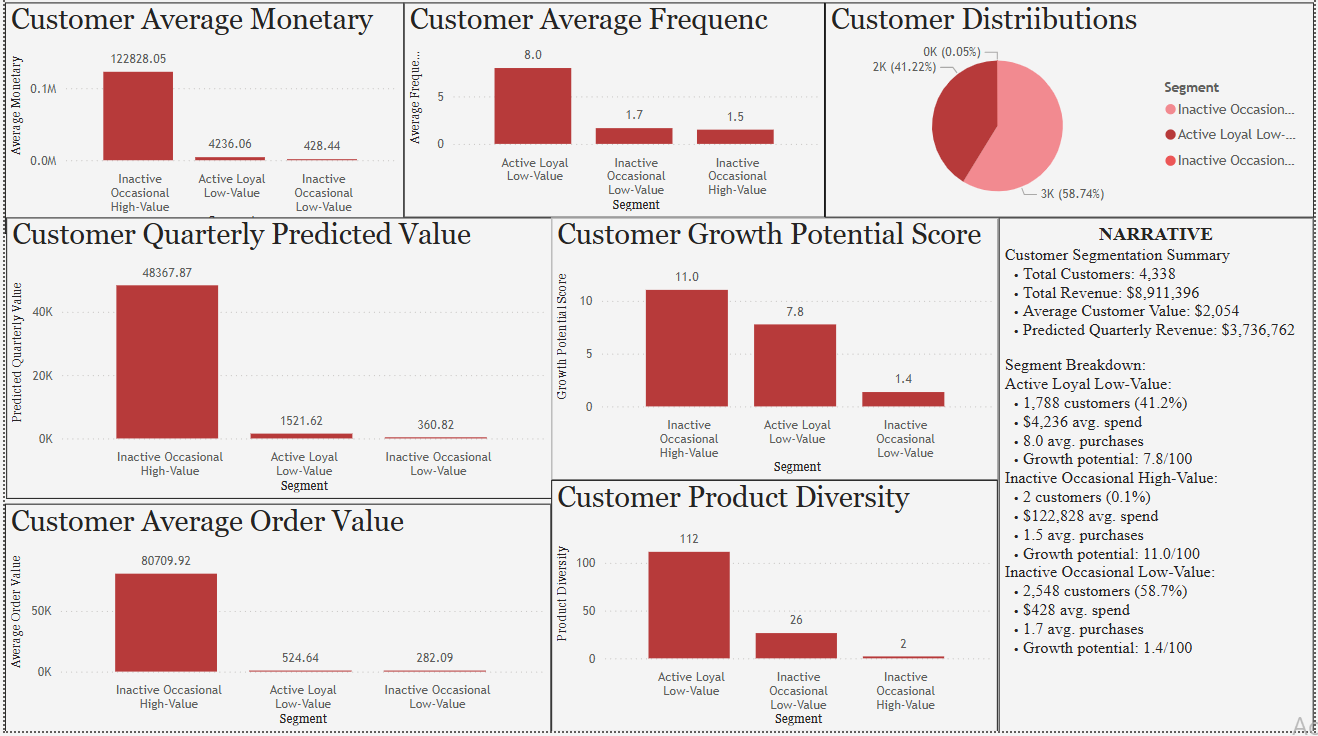

What the dashboard file says about the page in this screenshot:
{"tool":"powerbi","page":{"name":"Customer Segmentation","canvas":[1280,720],"ordinal":3},"visuals":[{"type":"clusteredColumnChart","title":"Customer Average Monetary","fields":{"Category":["retail_analysis_segment_summary.Segment"],"Y":["Sum(retail_analysis_segment_summary.AvgMonetary)"]},"box":[0,7.6,390.3,226.3],"z":0},{"type":"clusteredColumnChart","title":"Customer Quarterly Predicted Value","fields":{"Category":["retail_analysis_segment_summary.Segment"],"Y":["Sum(segment_insights.PredictedQuarterlyValue)"]},"box":[1.2,217.7,534.4,275.1],"z":1},{"type":"clusteredColumnChart","title":"Customer Average Frequenc","fields":{"Category":["retail_analysis_segment_summary.Segment"],"Y":["Sum(retail_analysis_segment_summary.AvgFrequency)"]},"box":[390.1,7.3,412.1,210.3],"z":2},{"type":"clusteredColumnChart","title":"Customer Average Order Value","fields":{"Y":["Sum(retail_analysis_segment_summary.AvgOrderValue)"],"Category":["retail_analysis_segment_summary.Segment"]},"box":[0,497.6,534.8,223.2],"z":3},{"type":"clusteredColumnChart","title":"Customer Growth Potential Score","fields":{"Category":["segment_insights.Segment"],"Y":["Sum(segment_insights.GrowthPotentialScore)"]},"box":[534.4,217.7,437.8,256.8],"z":4},{"type":"clusteredColumnChart","title":"Customer  Product Diversity","fields":{"Category":["segment_insights.Segment"],"Y":["Sum(segment_insights.ProductDiversity)"]},"box":[534.8,474.3,437.1,246.5],"z":5},{"type":"pieChart","title":"Customer Distriibutions","fields":{"Category":["retail_analysis_segment_summary.Segment"],"Y":["Sum(retail_analysis_segment_summary.CustomerCount)"]},"box":[802.2,7.3,478.1,210.3],"z":6},{"type":"textbox","box":[972.2,217.7,308.2,503.8],"z":8}]}

Visuals, with their boxes in screenshot pixels (x1, y1, x2, y2), scaled from the page's 1280x720 canvas onto the 1318x736 screenshot:
"Customer Average Monetary" clusteredColumnChart: bbox(0, 8, 402, 239)
"Customer Quarterly Predicted Value" clusteredColumnChart: bbox(1, 223, 552, 504)
"Customer Average Frequenc" clusteredColumnChart: bbox(402, 7, 826, 222)
"Customer Average Order Value" clusteredColumnChart: bbox(0, 509, 551, 735)
"Customer Growth Potential Score" clusteredColumnChart: bbox(550, 223, 1001, 485)
"Customer  Product Diversity" clusteredColumnChart: bbox(551, 485, 1001, 735)
"Customer Distriibutions" pieChart: bbox(826, 7, 1317, 222)
textbox: bbox(1001, 223, 1317, 735)
